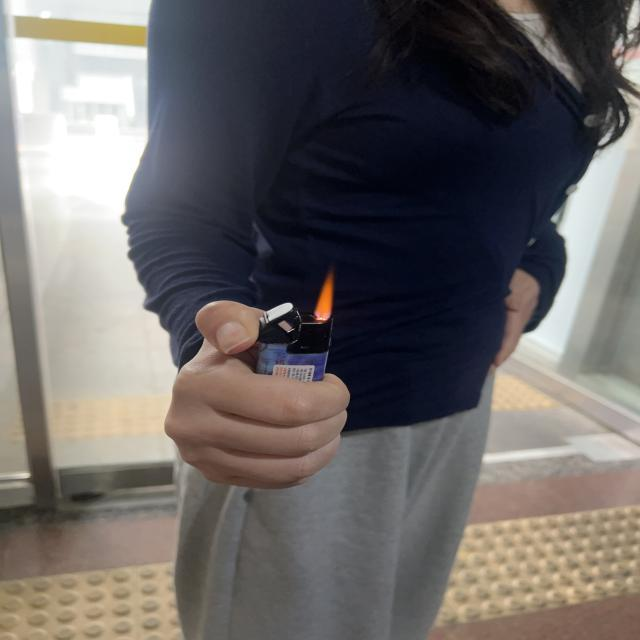fire: (313, 275, 335, 318)
